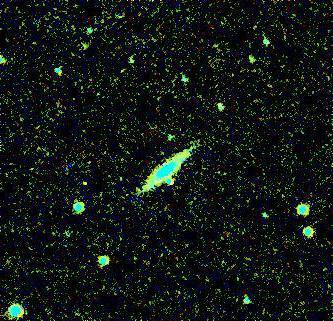star: (68, 169, 98, 199)
